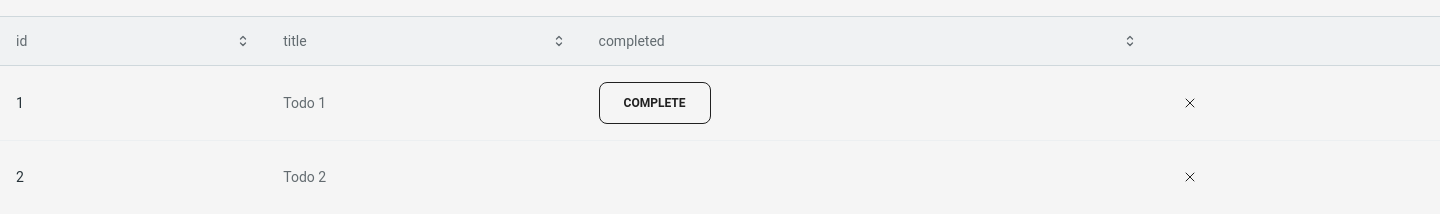
it: TodosList › should toggle sort by id when id tab is clicked
Click the column heading with test id "tab-id" at (134, 41), box [0, 16, 267, 66]
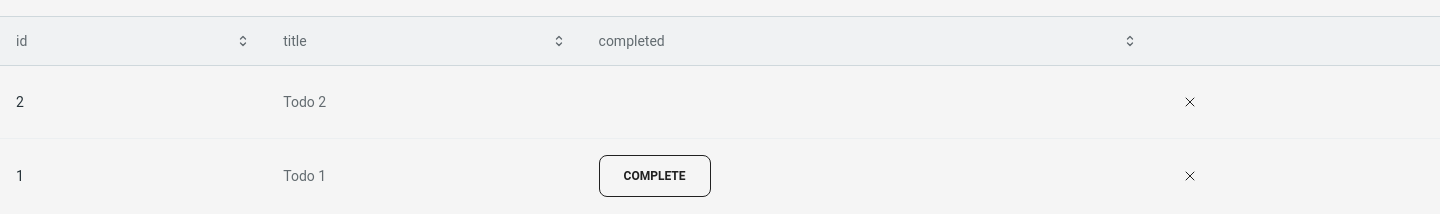
Check: the row with test id "todo-item" shows "2", box [16, 94, 24, 110]
Check: the row with test id "todo-item" shows "1", box [16, 168, 24, 184]
Click the column heading with test id "tab-id" at (134, 41), box [0, 16, 267, 66]
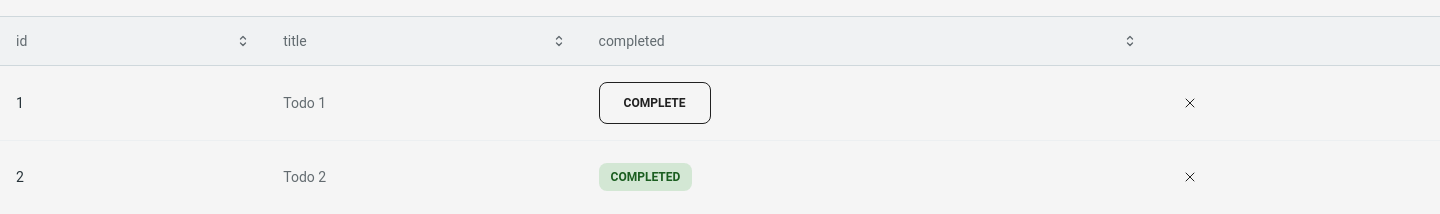
Check: the row with test id "todo-item" shows "1", box [16, 94, 24, 110]
Check: the row with test id "todo-item" shows "2", box [16, 168, 24, 184]
